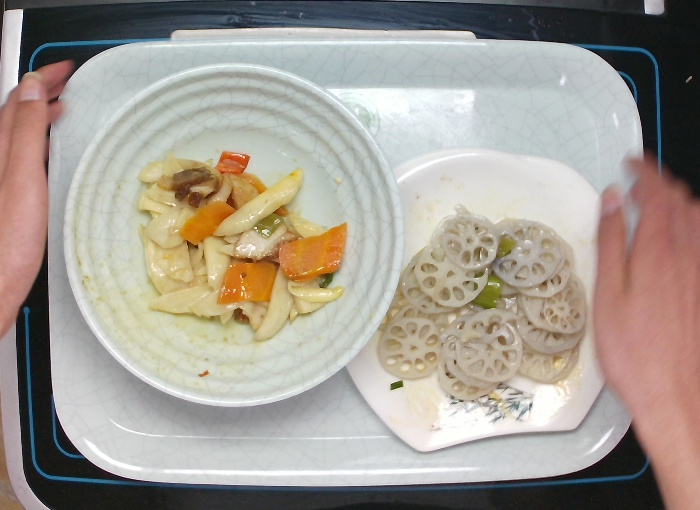JYsf-Da_Tang_Wan: (54, 58, 405, 415)
JYsf-Mian_Pan: (337, 142, 623, 453)
